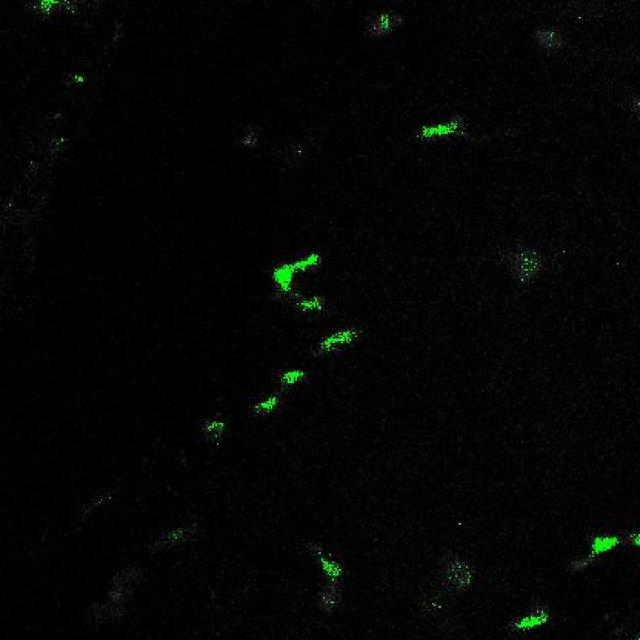Cell: (276, 257, 305, 290), (592, 531, 620, 558), (283, 370, 307, 387)
